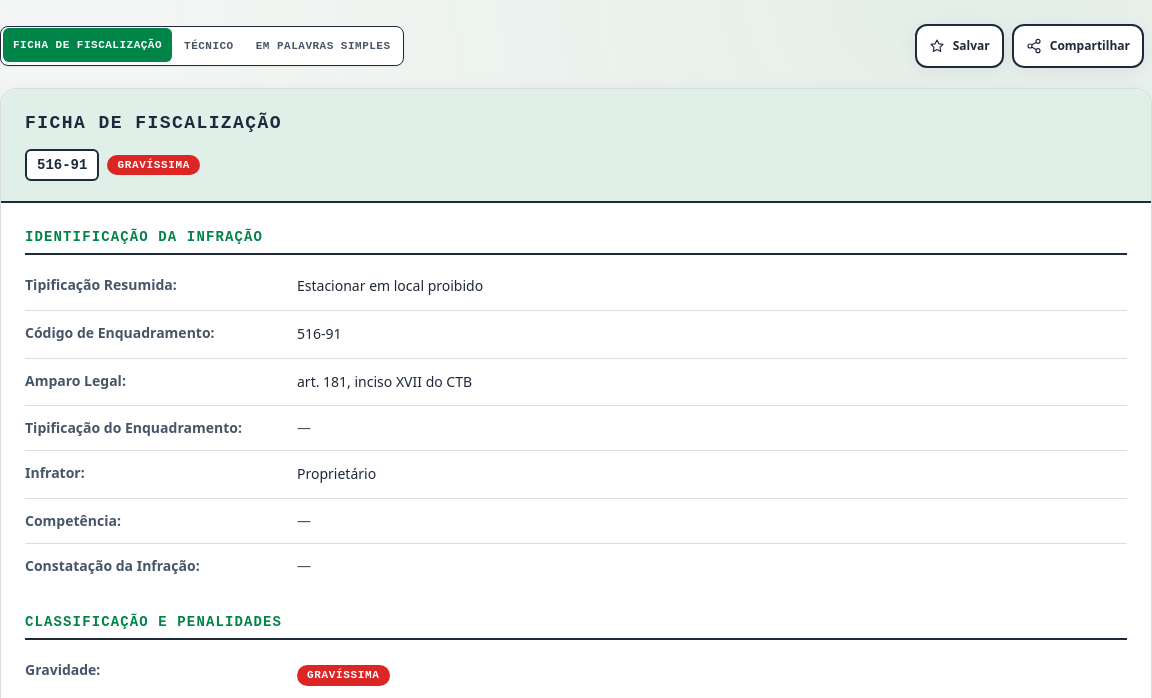
Test: ConsultaResult › warns about a possible traffic crime on the technical view
Click the tab "Técnico": (209, 46) [174,29,244,63]
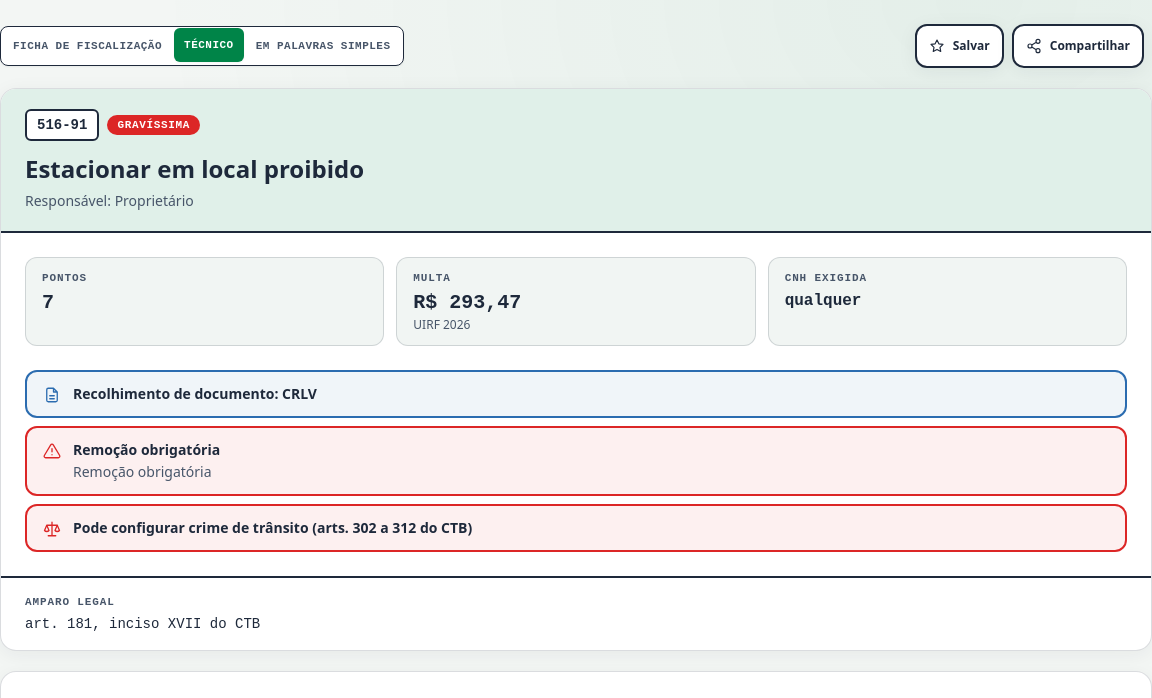
Result: the text "Pode configurar crime de trânsito (arts. 302 a 312 do CTB)" is shown at [73,518,472,538]
